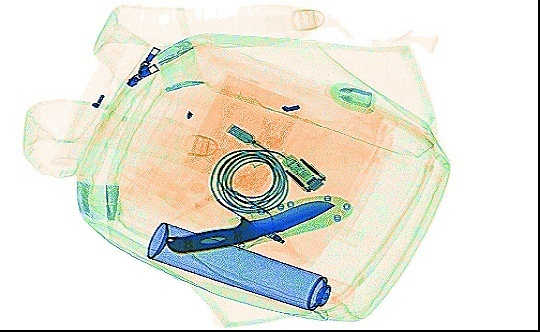knife: (164, 191, 353, 250)
pressure: (145, 221, 355, 316)
